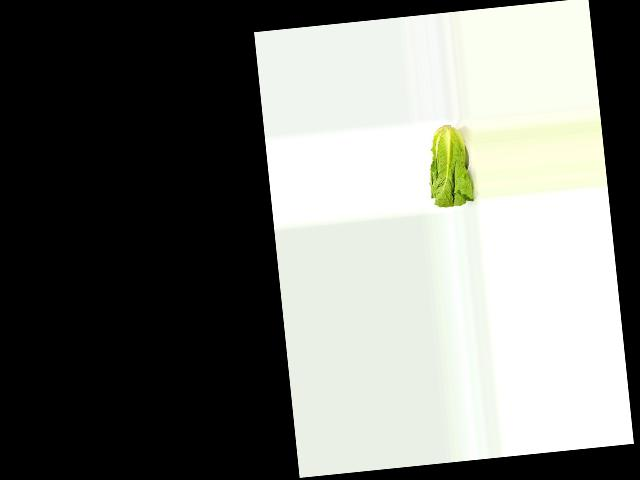lettuce: (422, 122, 475, 209)
